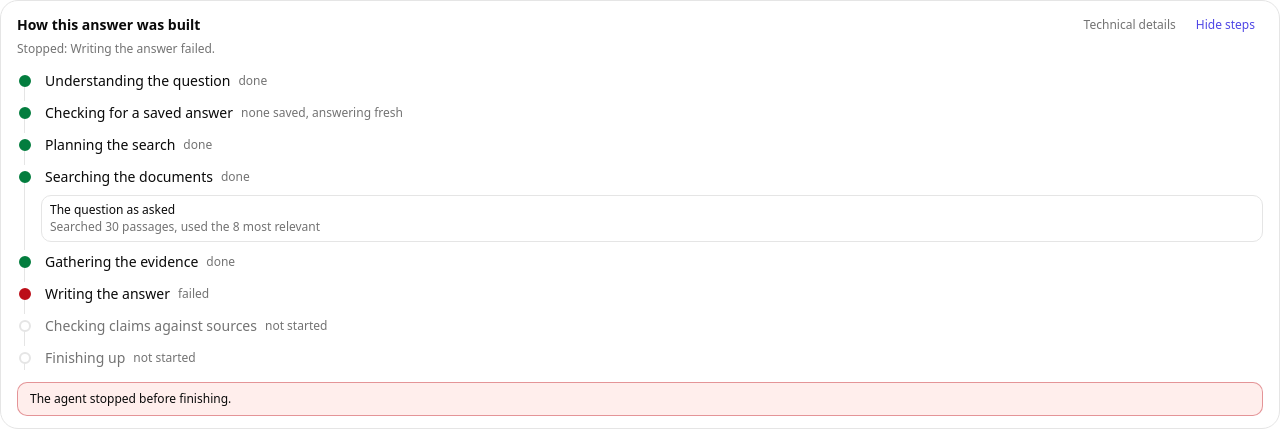
Test case: AgentTimeline › shows a failed node and the error
This screenshot has width=1280, height=446.
Expected: the text "The agent stopped before finishing." is shown, [17, 382, 1263, 416]
// The error code is a technical detail, one click away.
Click the button "Technical details" at (1130, 25), box [1076, 13, 1184, 37]
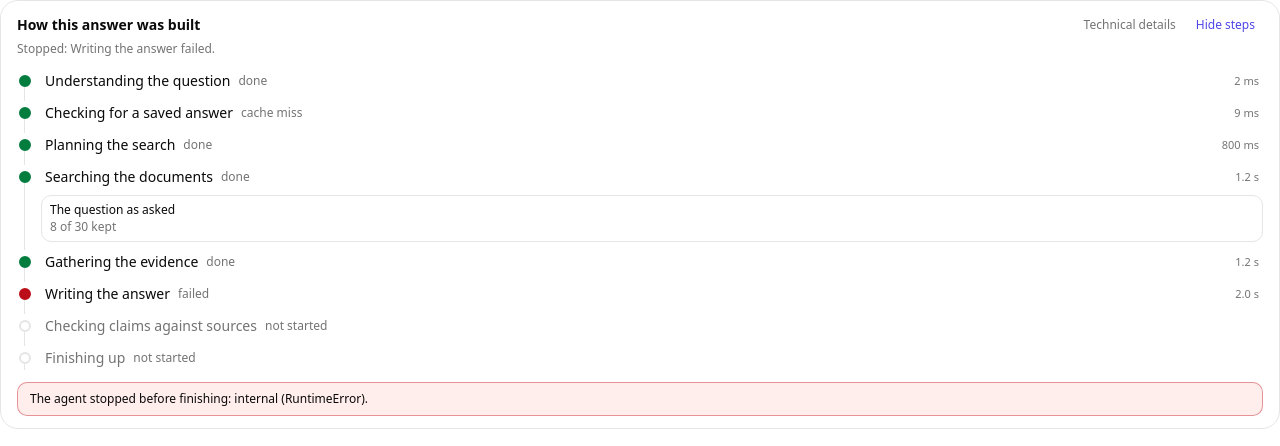
Result: the text "The agent stopped before finishing: internal (RuntimeError)." is shown at [17, 382, 1263, 416]
